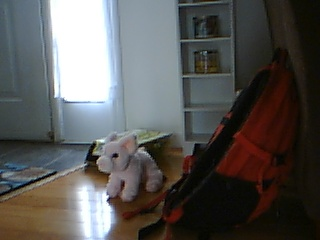piggy: (97, 132, 164, 203)
